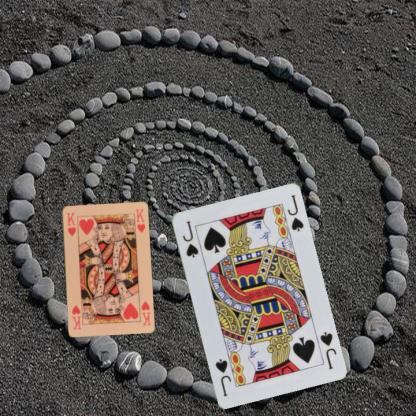Js: (318, 329, 338, 370), (180, 218, 199, 259)
Kh: (139, 298, 152, 327), (64, 210, 77, 237)
